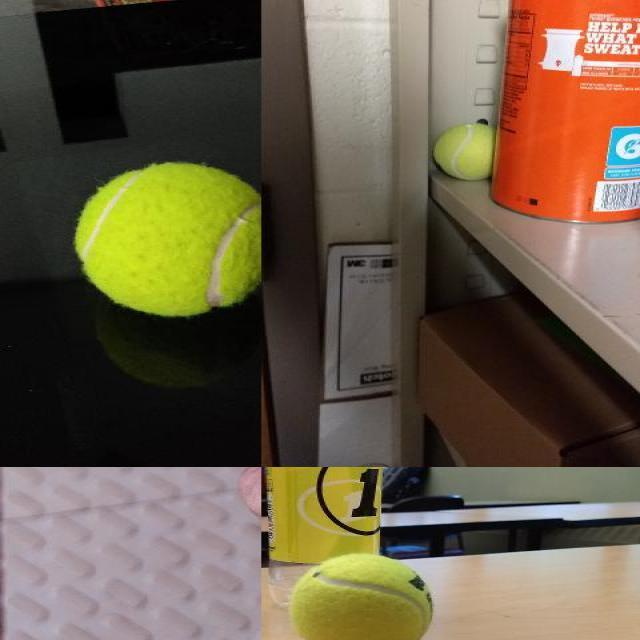tennis-ball: (73, 160, 259, 316), (287, 551, 433, 639), (432, 122, 492, 180)
